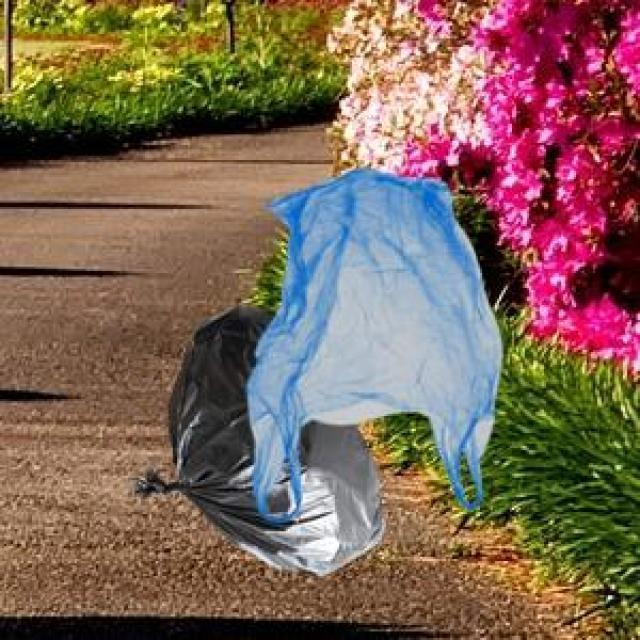miscellaneous trash: (243, 164, 497, 518), (128, 301, 382, 572)
